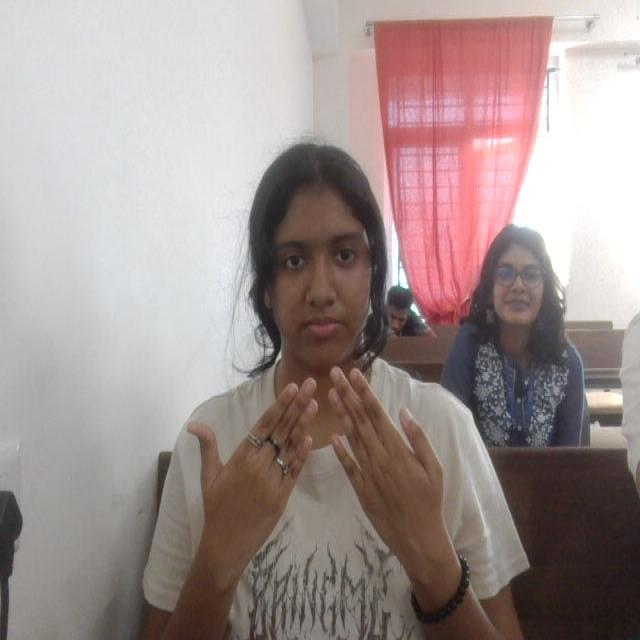thankyou: (183, 364, 446, 574)
